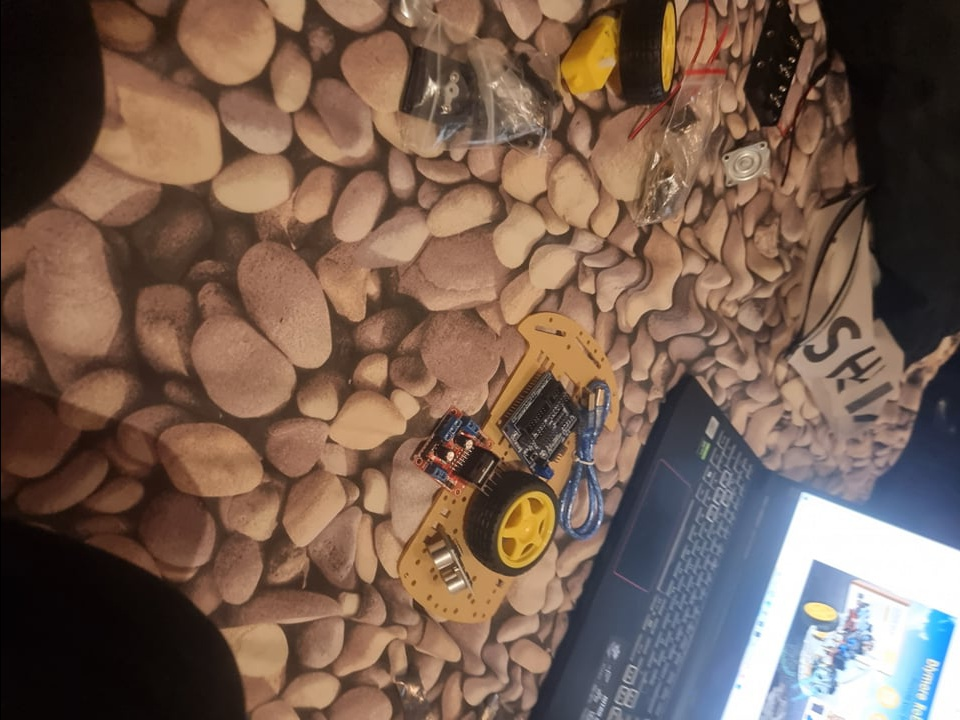5V EXPANSION: (497, 368, 583, 478)
BATTERY BOX: (742, 8, 818, 127)
MOTOR: (409, 406, 498, 497)
SENSOR: (425, 533, 469, 597)
